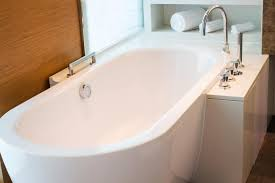bathub: (1, 40, 232, 183)
